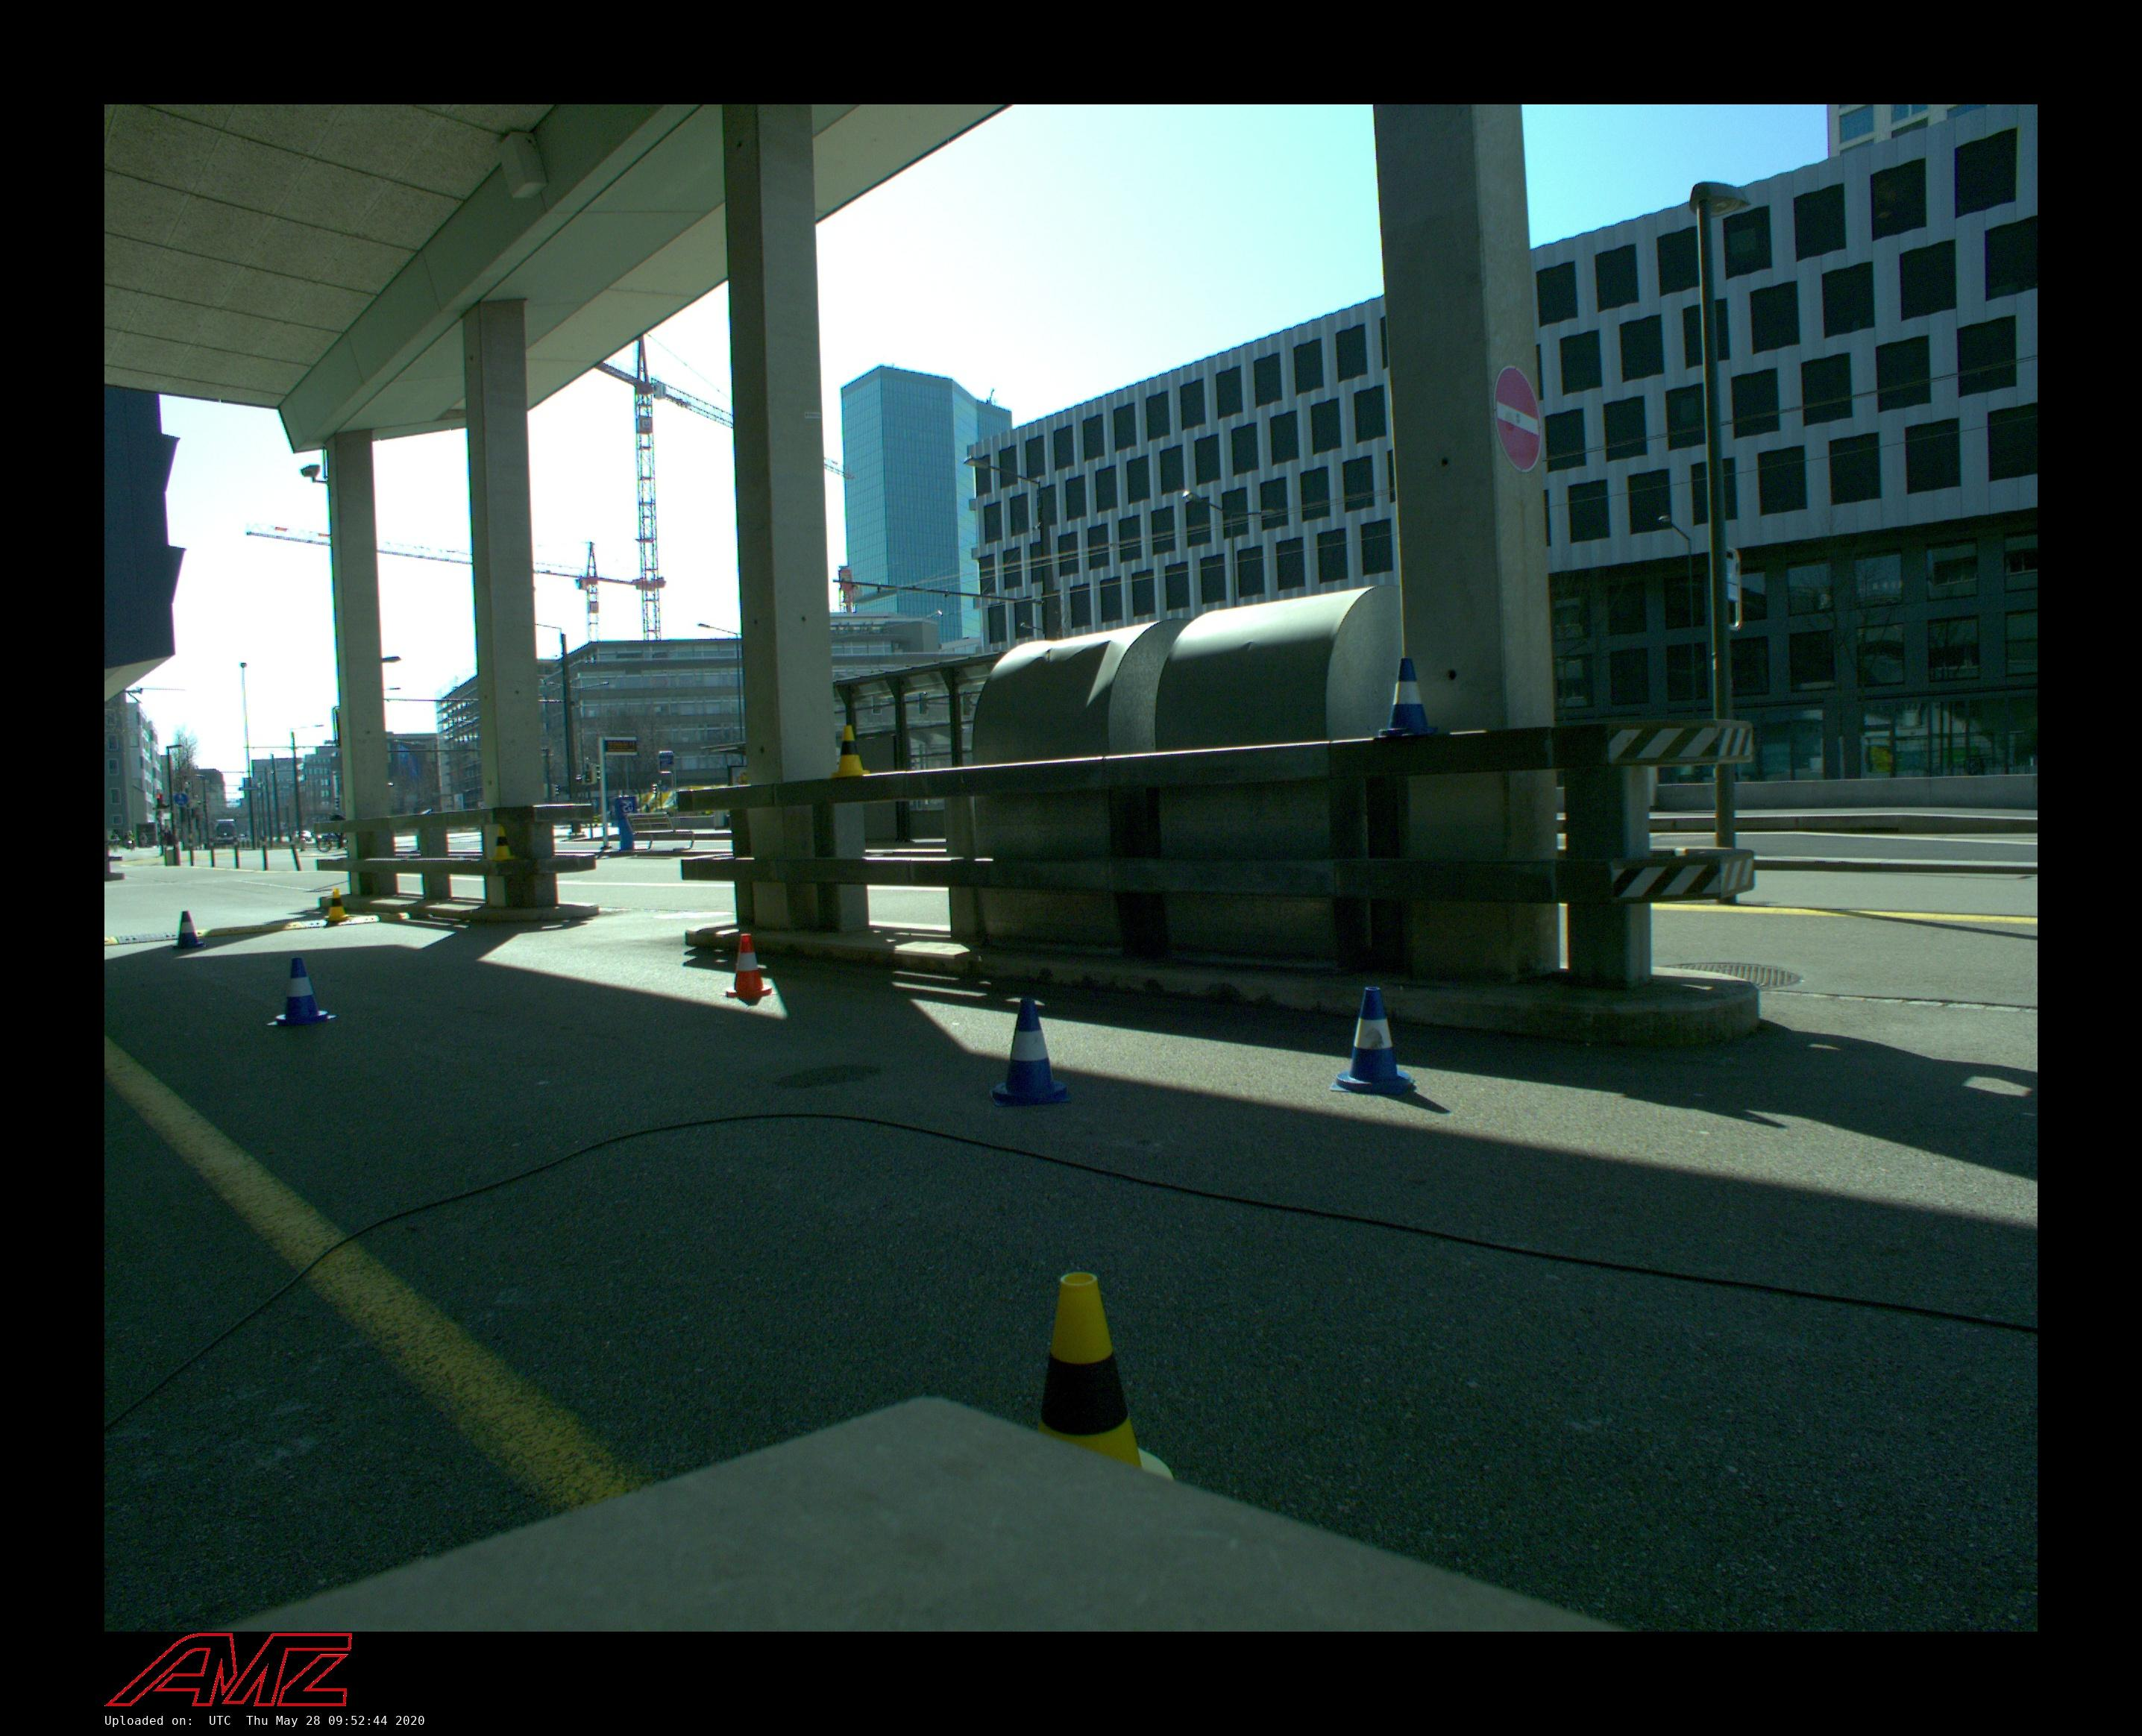blue_cone: (1331, 985, 1417, 1097), (990, 997, 1074, 1107), (266, 957, 337, 1027), (1378, 657, 1437, 737), (170, 911, 207, 948)
orange_cone: (725, 934, 774, 996)
yellow_cone: (1033, 1274, 1171, 1481), (831, 726, 870, 778), (489, 825, 516, 861), (324, 887, 349, 919)
